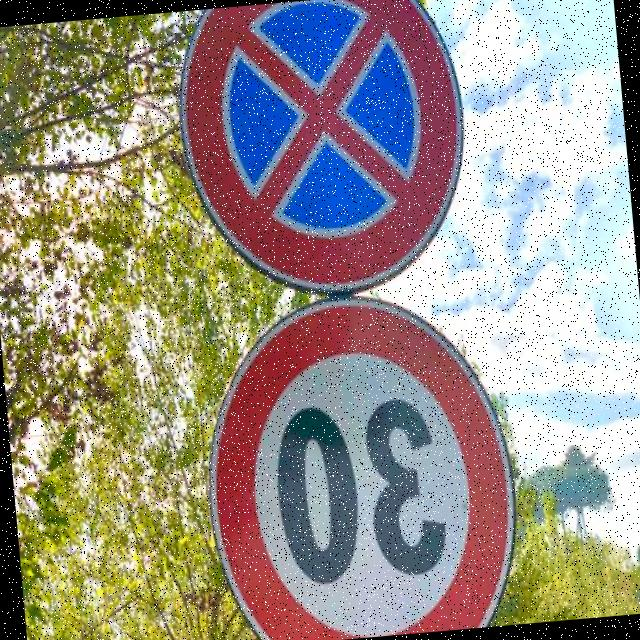no_parking: (163, 0, 474, 310)
